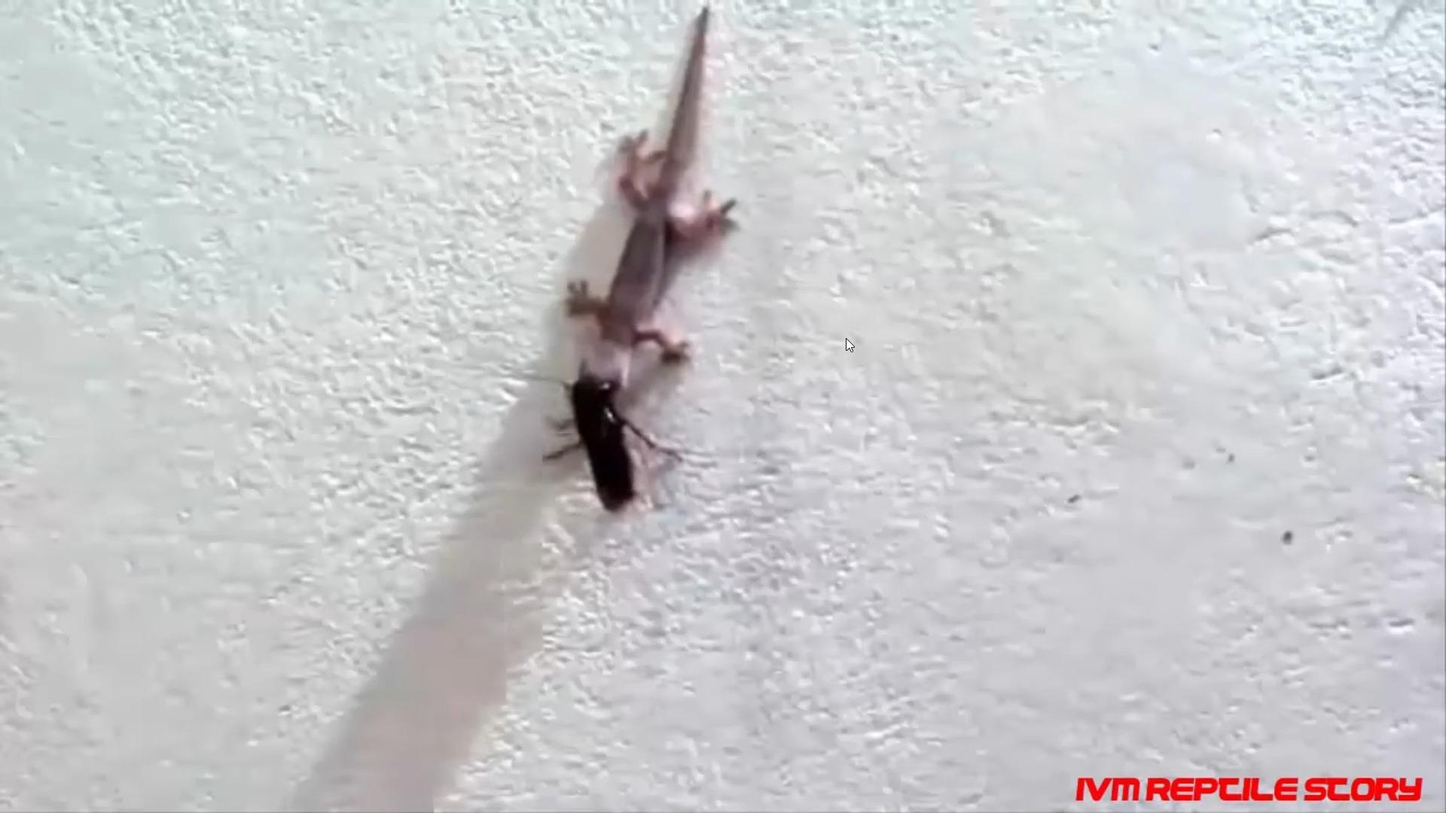cockroach: (556, 362, 645, 516)
lizard: (578, 33, 737, 377)
